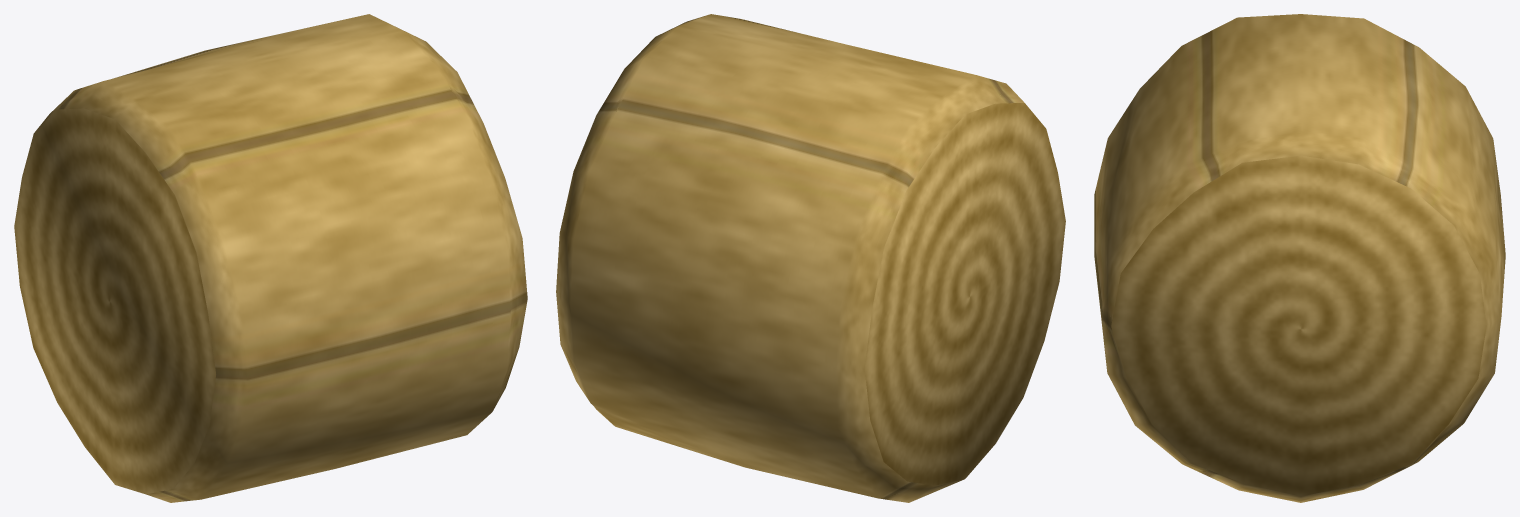
The model's file is hay_bale.glb.
3 views of the same model, side by side, from view 1: azimuth 30°, elevation 25°; view 2: azimuth 150°, elevation 25°; view 3: azimuth 270°, elevation 25° (orthographic). The views are drawn at different scales.
Visible parts, largest first — view 1: HayBale; view 2: HayBale; view 3: HayBale.
Part boxes in pixels (x1=…): HayBale: x1=14, y1=14, x2=527, y2=502; HayBale: x1=556, y1=14, x2=1065, y2=502; HayBale: x1=1094, y1=14, x2=1505, y2=502.
Bounding box in the file's own units: 1.28 × 1.52 × 1.52.
1 material, 1 textured.
